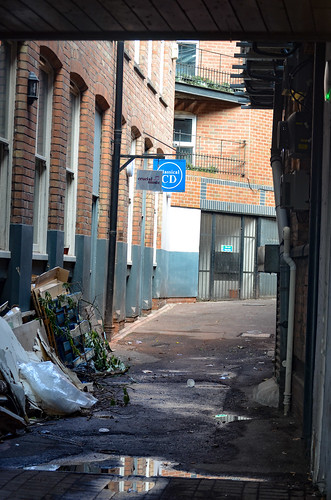building: (1, 38, 170, 326), (156, 44, 281, 319)
trash: (1, 267, 125, 454)
